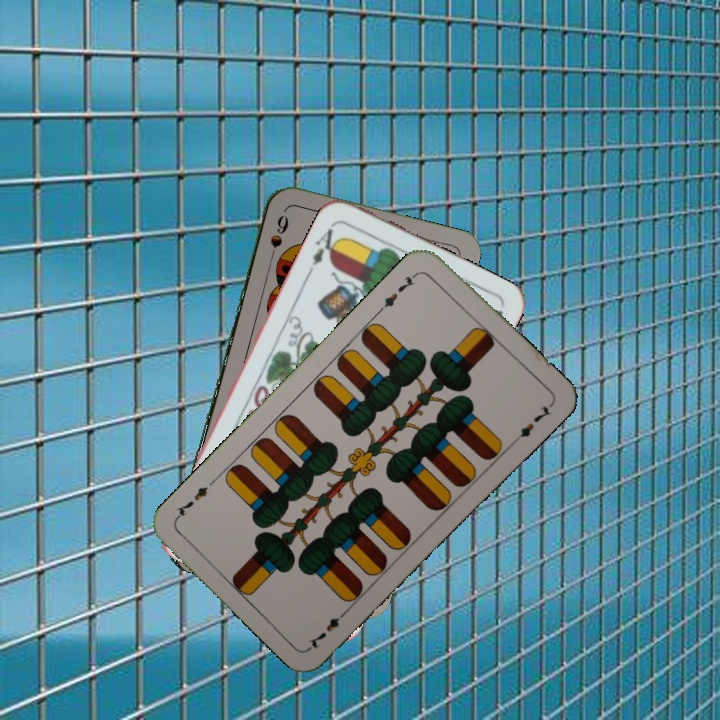E7: (304, 605, 351, 652), (375, 268, 422, 314)
EA: (305, 219, 343, 275)
S9: (264, 211, 290, 267)
